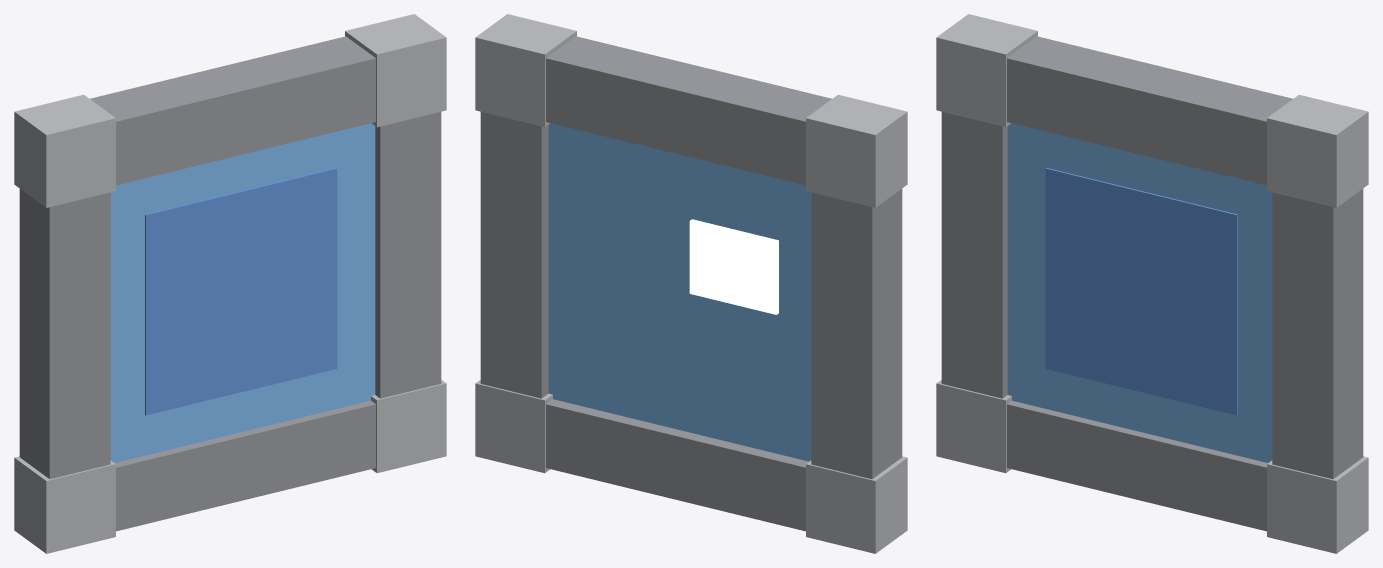
File: water_pool.glb
The picture shows the model from 3 angles, left to right: view 1: azimuth 30°, elevation 25°; view 2: azimuth 150°, elevation 25°; view 3: azimuth 330°, elevation 25°; orthographic projection.
Parts seen in each view (by area): view 1: Deep, Water, RimW, RimN, RimE, RimS, C2, C4, C1, C3; view 2: Water, RimW, RimN, RimE, RimS, C2, C4, C1, Shine, C3; view 3: Deep, Water, RimE, RimN, RimW, RimS, C1, C3, C2, C4.
Boxes of the visible parts, x1,y1,x2,y2 form: Deep: [145, 168, 337, 415]; Water: [110, 123, 375, 462]; RimW: [19, 189, 110, 479]; RimN: [90, 36, 375, 185]; RimE: [375, 112, 441, 398]; RimS: [115, 400, 375, 531]; C2: [14, 94, 115, 207]; C4: [14, 456, 115, 553]; C1: [345, 14, 446, 127]; C3: [371, 380, 446, 473]; Water: [548, 123, 811, 461]; RimW: [811, 189, 902, 479]; RimN: [546, 36, 831, 185]; RimE: [480, 112, 548, 398]; RimS: [546, 399, 808, 531]; C2: [806, 94, 907, 207]; C4: [806, 456, 907, 553]; C1: [475, 14, 576, 127]; Shine: [689, 219, 778, 314]; C3: [475, 380, 552, 473]; Deep: [1045, 168, 1237, 415]; Water: [1007, 123, 1272, 462]; RimE: [1272, 189, 1363, 479]; RimN: [1007, 36, 1292, 185]; RimW: [941, 112, 1007, 398]; RimS: [1007, 400, 1267, 531]; C1: [1267, 94, 1368, 207]; C3: [1267, 456, 1368, 553]; C2: [936, 14, 1037, 127]; C4: [936, 380, 1011, 473].
Size of the model in its own units: 2.3 by 2.3 by 0.32.
